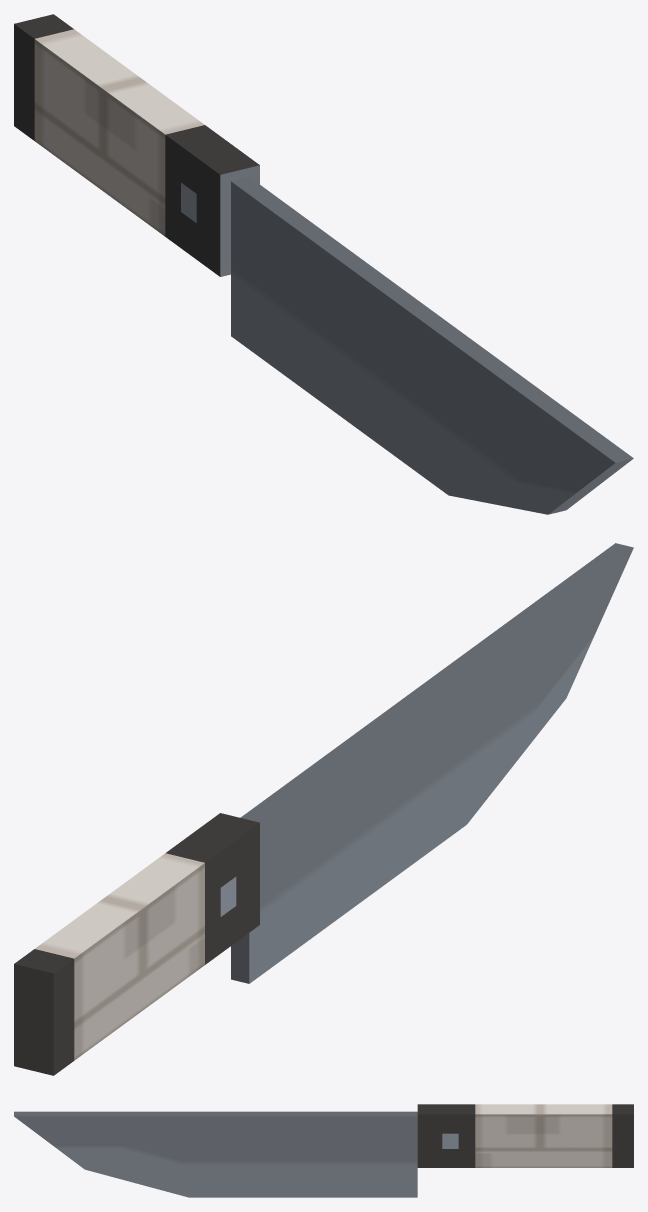
The model's file is SA_Wep_Knife noBlood.fbx.
The picture shows the model from 3 angles, top to bottom: view 1: azimuth 30°, elevation 25°; view 2: azimuth 150°, elevation 25°; view 3: azimuth 270°, elevation 25°; orthographic projection. The views are drawn at different scales.
Parts seen in each view (by area): view 1: SA_Wep_Knife; view 2: SA_Wep_Knife; view 3: SA_Wep_Knife.
Boxes of the visible parts, left/top/right/bottom form: SA_Wep_Knife: left=14, top=14, right=633, bottom=514; SA_Wep_Knife: left=14, top=543, right=633, bottom=1075; SA_Wep_Knife: left=14, top=1104, right=633, bottom=1197.
Size of the model in its own units: 0.0443 by 0.1749 by 1.14.
1 material, 1 textured.
